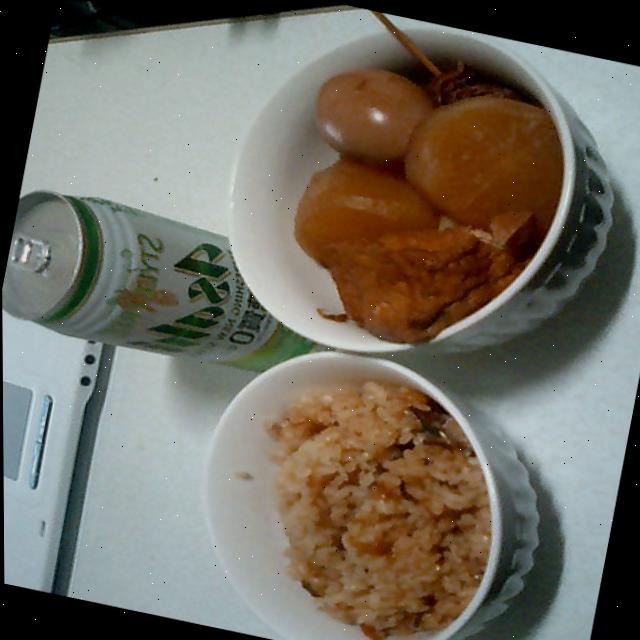汤锅炖物: (271, 26, 559, 359)
